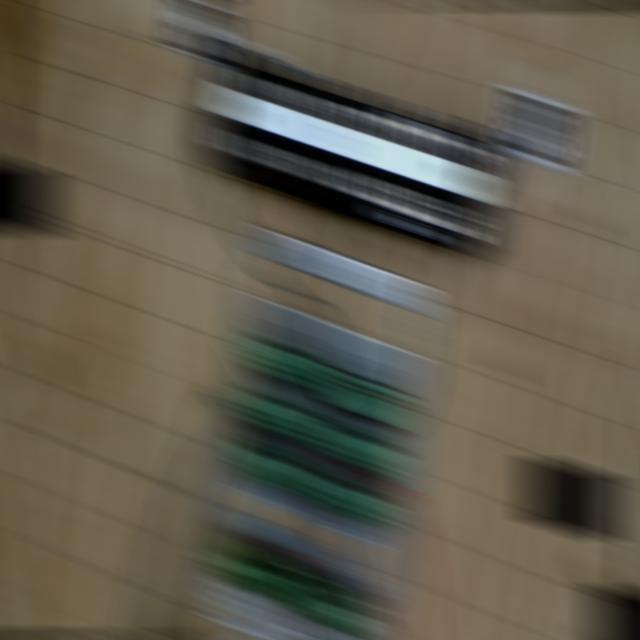Phillips_Block: (182, 36, 527, 247)
Terminal_1: (283, 571, 376, 639), (211, 539, 302, 606)
Terminal_2: (308, 465, 398, 530), (316, 415, 405, 478), (228, 433, 314, 497), (243, 331, 327, 391), (237, 384, 319, 442)
